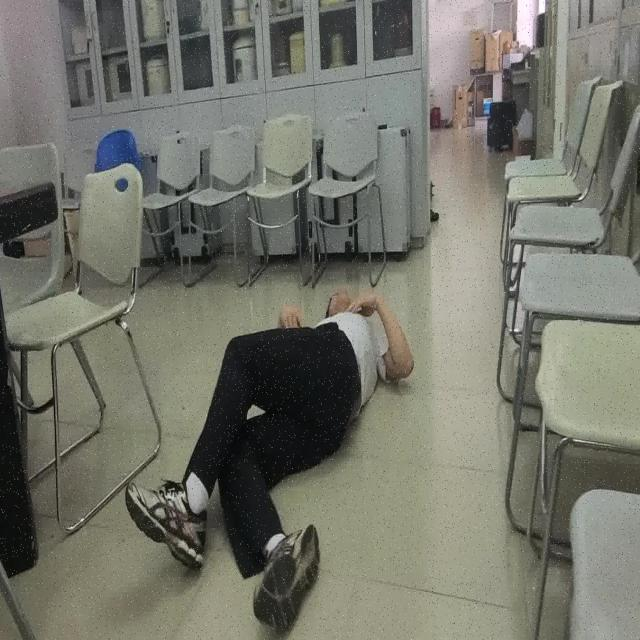fall: (125, 287, 415, 639)
